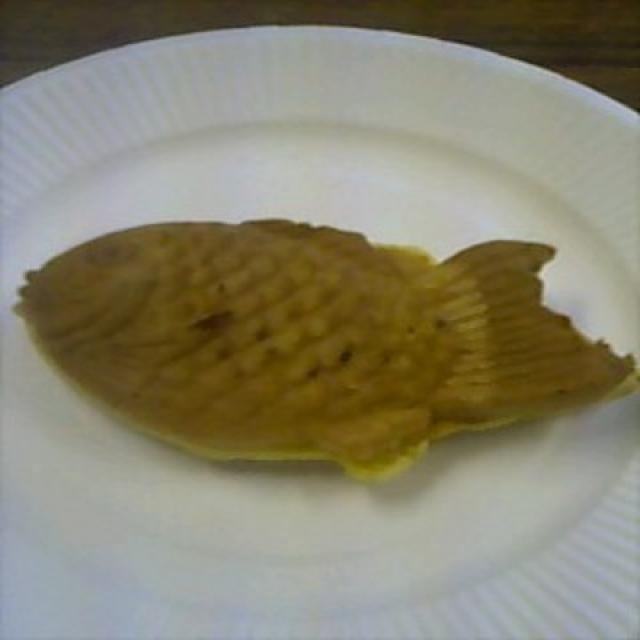熟制海鲜: (0, 202, 640, 498)
